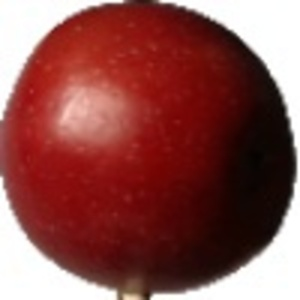maçã braeburn: (1, 1, 291, 292)
